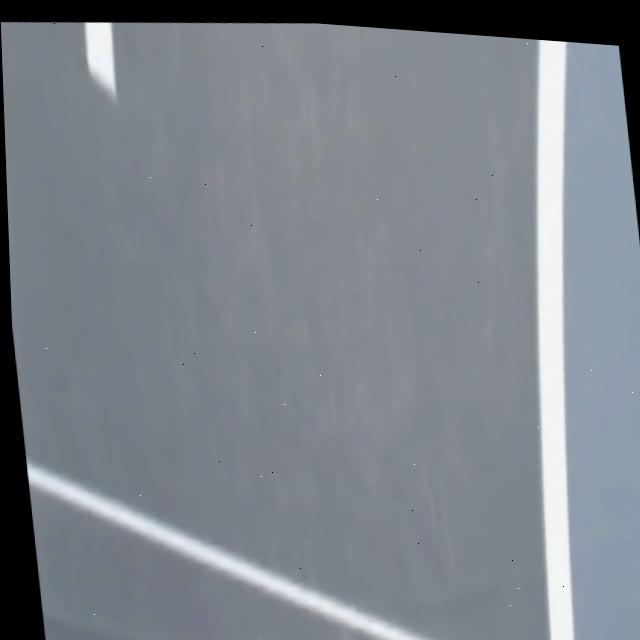center: (85, 22, 116, 98)
left: (537, 40, 575, 640)
